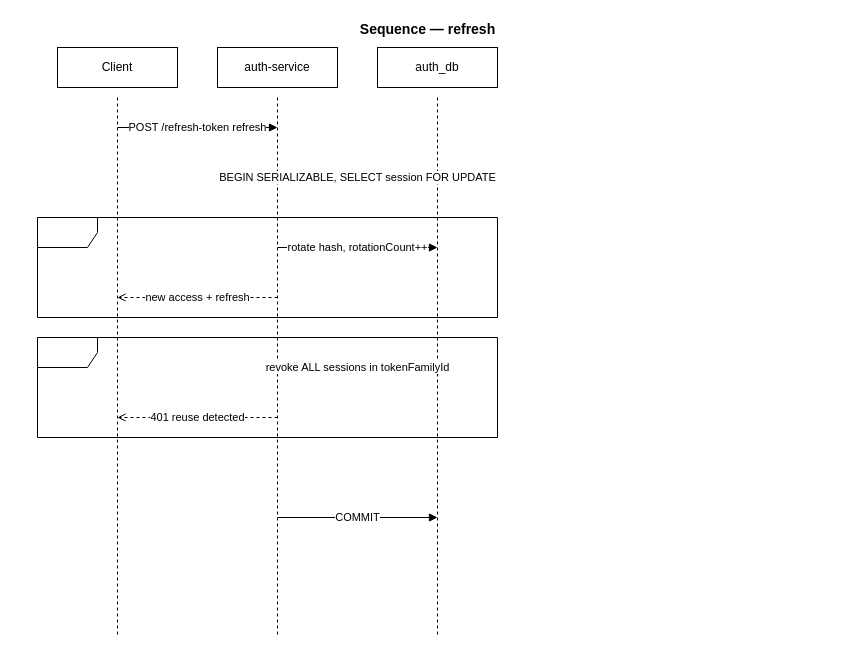
The diagram is 854 pixels wide and 656 high, and some of its shapes have lost their labels. Here are the shapes that lost their labels. From the top down, the box of each, then its label:
(36, 216, 498, 318): alt token matches current hash
(36, 336, 498, 438): else already-rotated reuse
